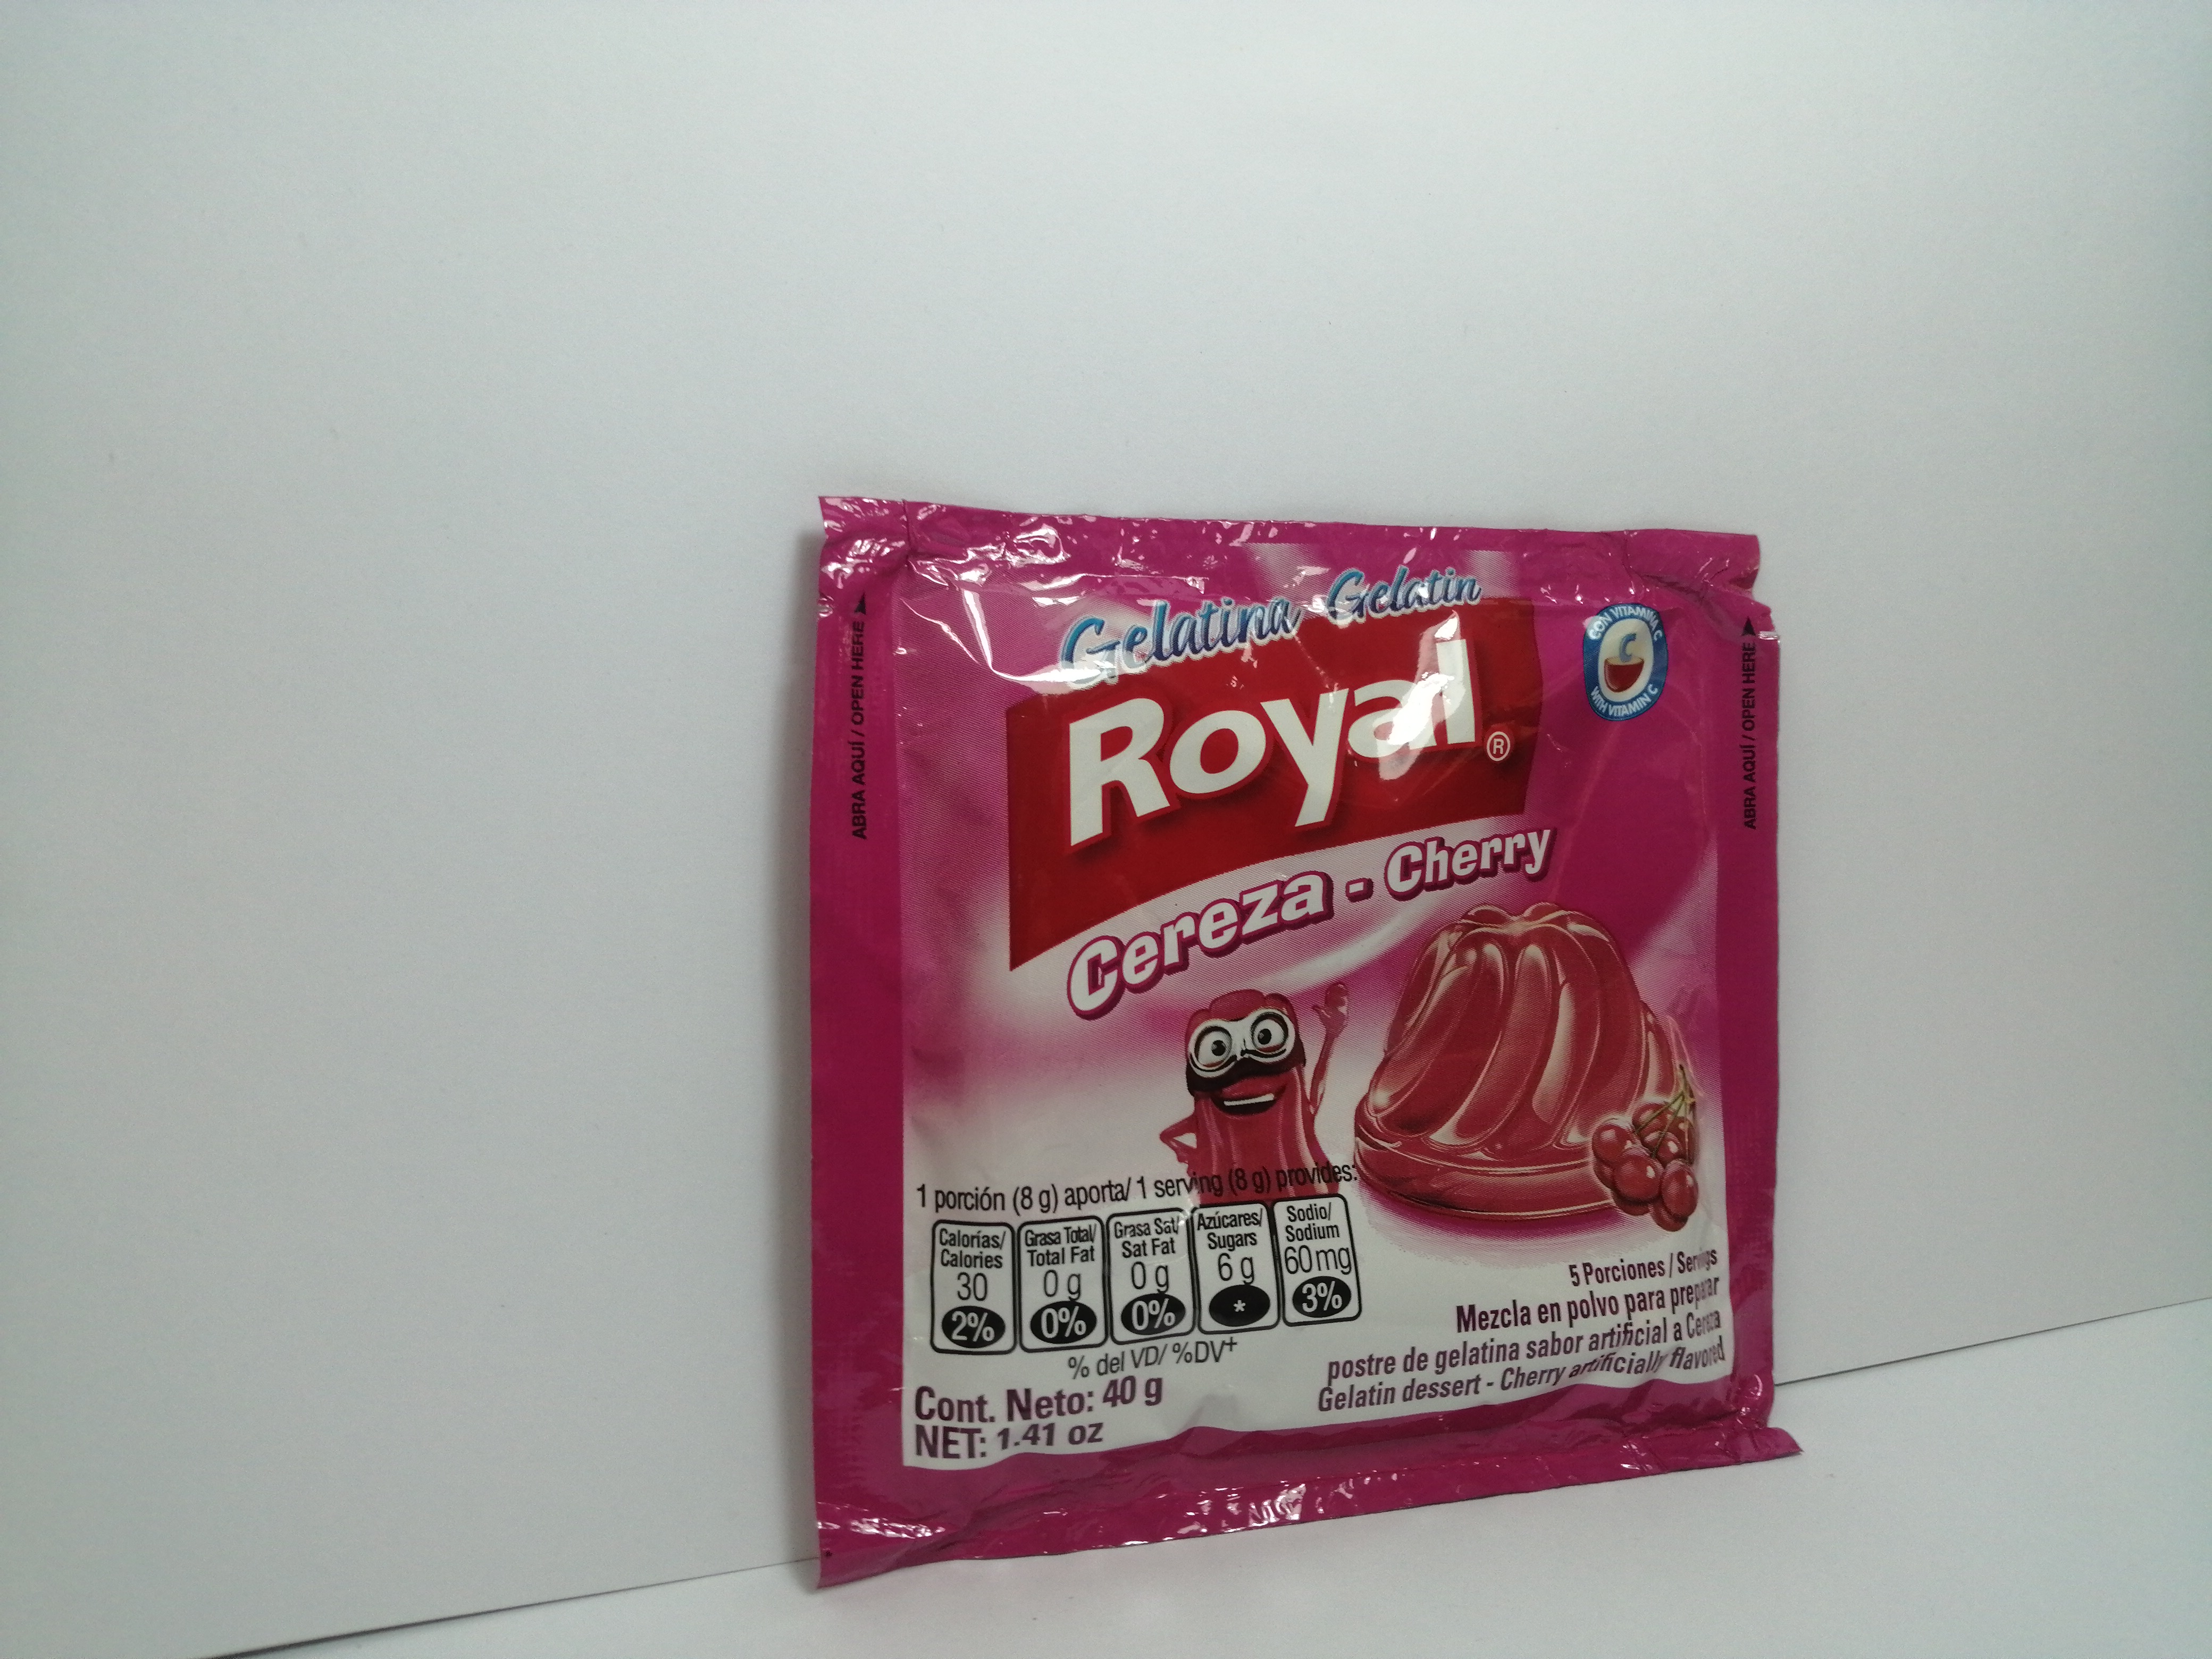gelatina: (806, 502, 1787, 1591)
